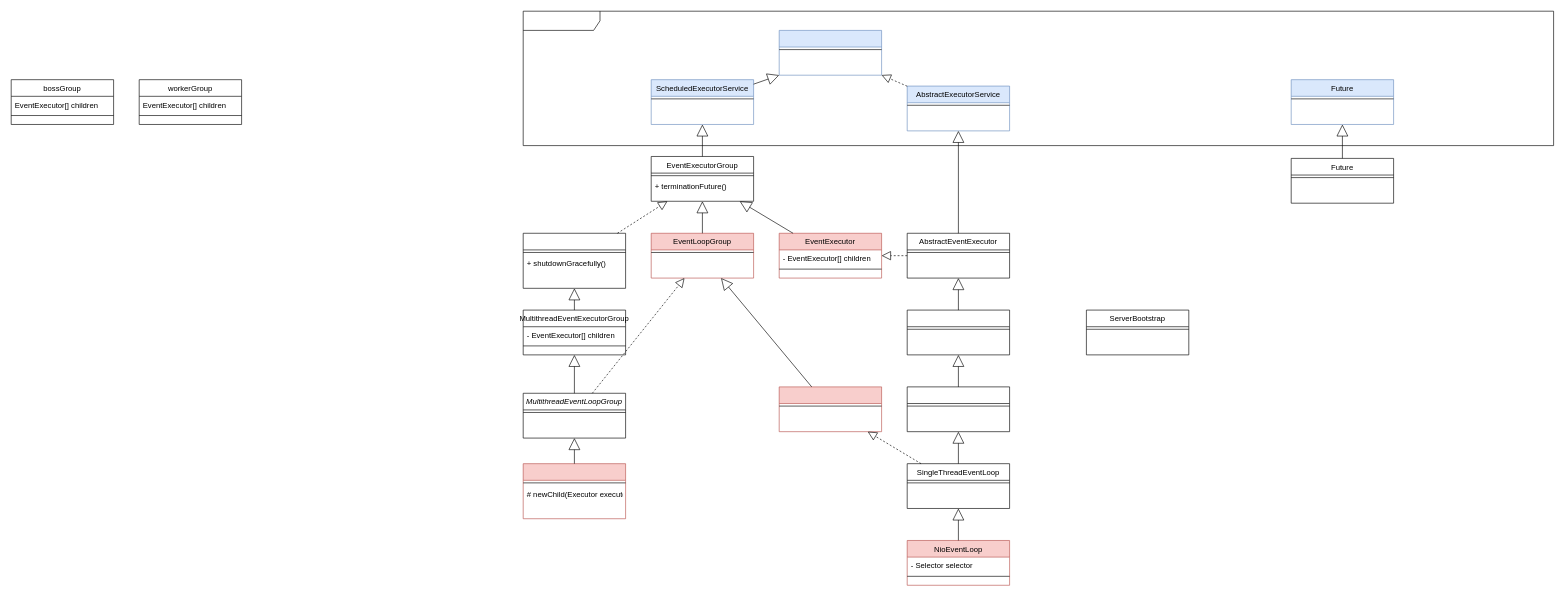
Some shapes in this 1565 by 596 pixel diagram are drawn without their labels. The shapes that lost their labels are listed below. From the top down, each one's box as (x1, y1, x2, y2) in pixels, then its label:
(779, 30, 882, 75): ExecutorService
(523, 11, 1554, 146): java.util.concurrent
(523, 233, 626, 288): AbstractEventExecutorGroup
(907, 309, 1010, 355): AbstractScheduledEventExecutor
(779, 386, 882, 432): EventLoop
(907, 386, 1010, 432): SingleThreadEventExecutor
(523, 463, 626, 519): NioEventLoopGroup
